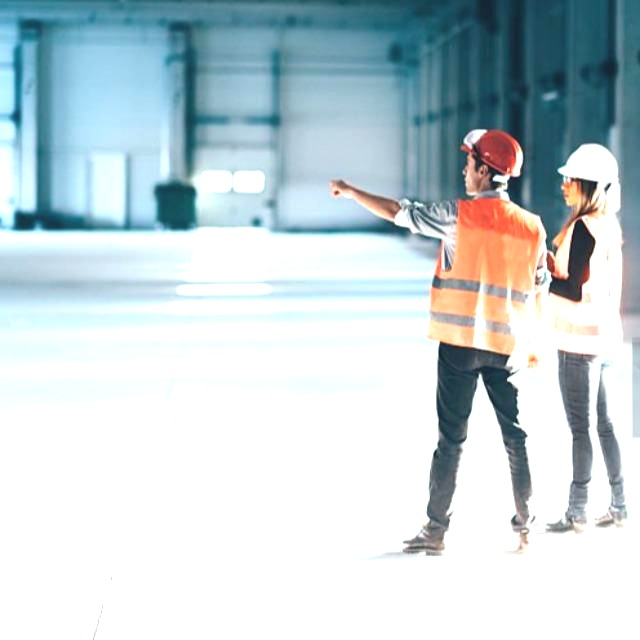Con_Chaleco: (432, 202, 545, 358), (547, 214, 629, 357)
